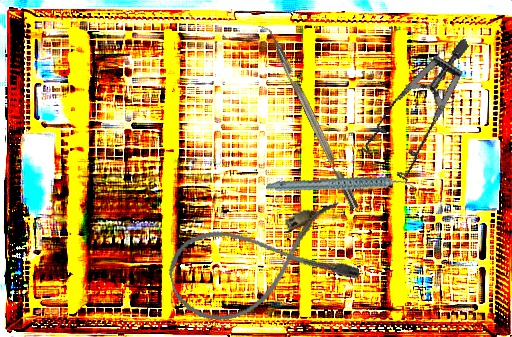Cannula: (161, 197, 363, 332)
Chopper: (255, 19, 359, 215)
Handpiece: (265, 152, 415, 221)
Speculum: (337, 37, 509, 194)
